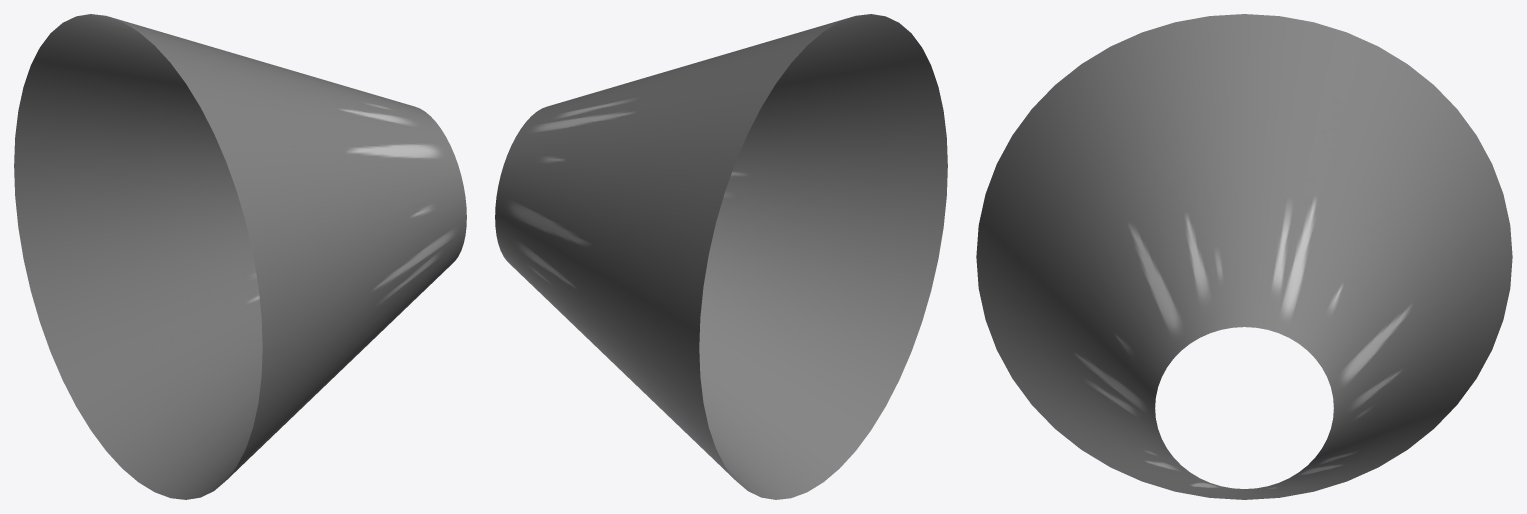
Rendered from eff_Spark04.fbx.
3 views of the same model, side by side, from view 1: azimuth 30°, elevation 25°; view 2: azimuth 150°, elevation 25°; view 3: azimuth 270°, elevation 25° (orthographic). The views are drawn at different scales.
Visible parts, largest first — view 1: eff_Spark04_msh; view 2: eff_Spark04_msh; view 3: eff_Spark04_msh.
Part boxes in pixels (x1,y1,x2,y2): eff_Spark04_msh: [14, 14, 466, 499]; eff_Spark04_msh: [495, 14, 947, 499]; eff_Spark04_msh: [976, 14, 1512, 499].
Bounding box in the file's own units: 1.33 × 2 × 2.
